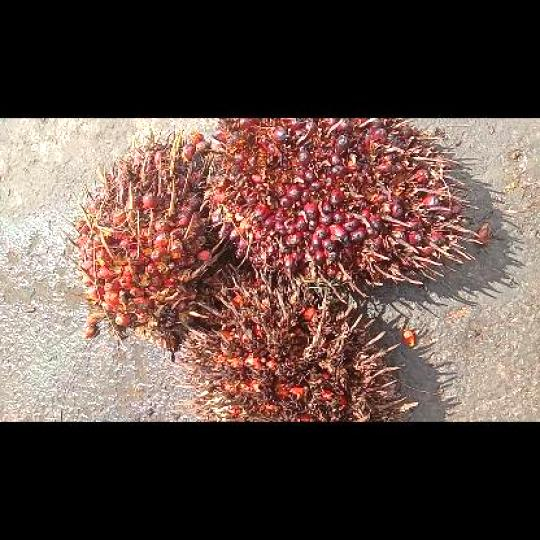masak: (202, 118, 480, 303), (65, 124, 231, 348)
terlalu masak: (171, 265, 418, 420)
